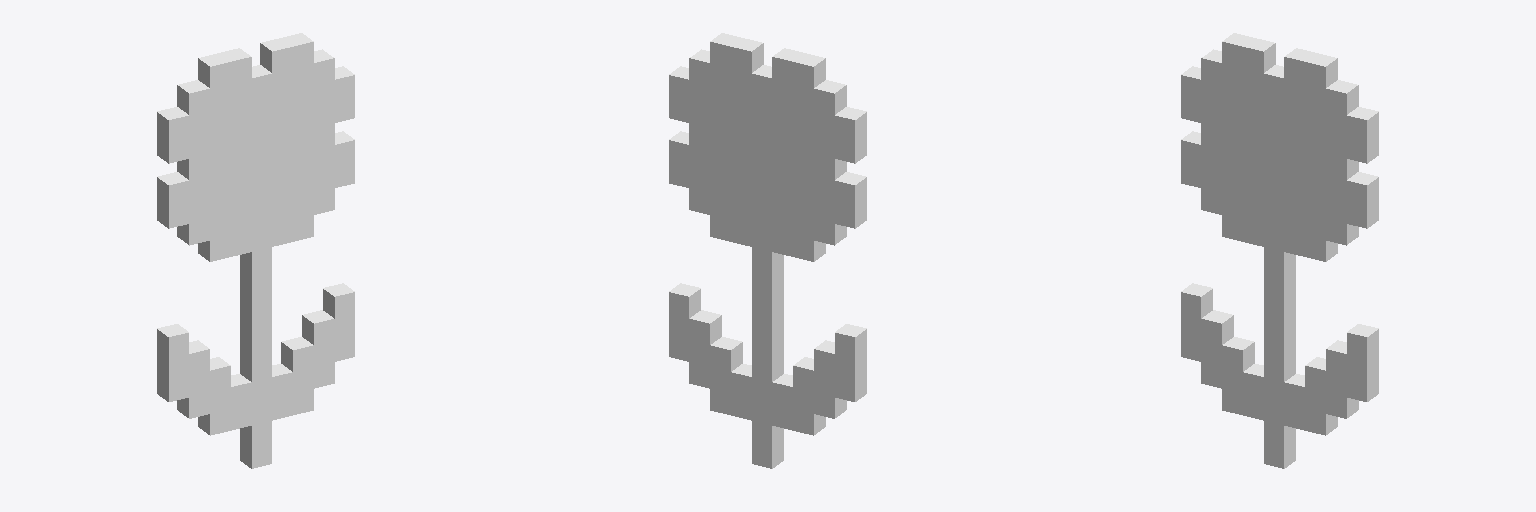
The model's file is flower.obj.
3 renders of one model, left to right at view 1: azimuth 30°, elevation 25°; view 2: azimuth 150°, elevation 25°; view 3: azimuth 330°, elevation 25°, orthographic.
Parts seen in each view (by area): view 1: object 1; view 2: object 1; view 3: object 1.
Boxes of the visible parts, <box> form: object 1: <box>157,33,354,468</box>; object 1: <box>669,33,866,468</box>; object 1: <box>1181,33,1378,468</box>.
Size of the model in its own units: 0.9 by 1.9 by 0.1.